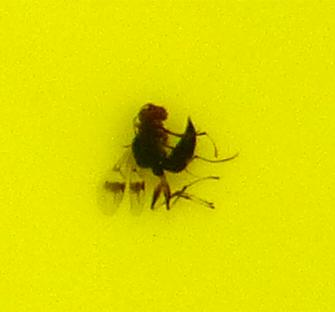Hymenoptera: (100, 100, 235, 212)
